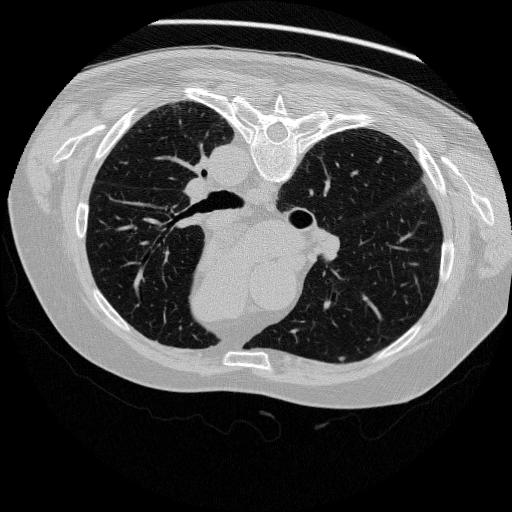nodule: (338, 355, 349, 366)
